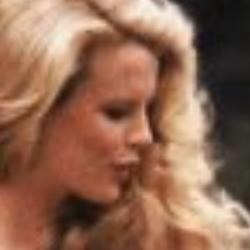face: (1, 4, 211, 228)
